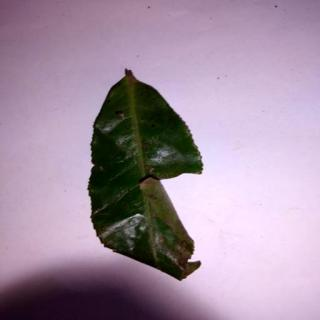Bird Eye Spot: (88, 70, 206, 281)
